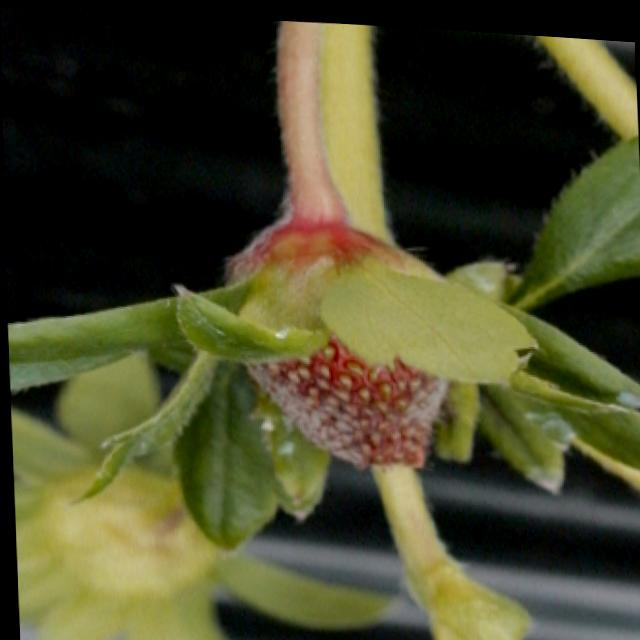Gray Mold: (235, 330, 452, 464)
